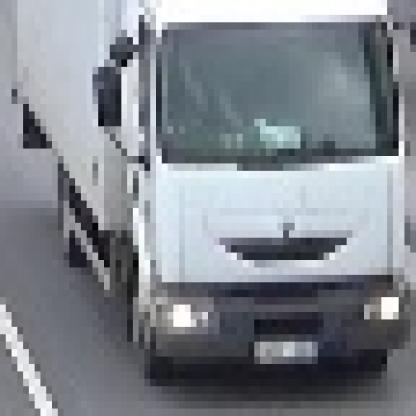truck: (1, 1, 411, 365)
